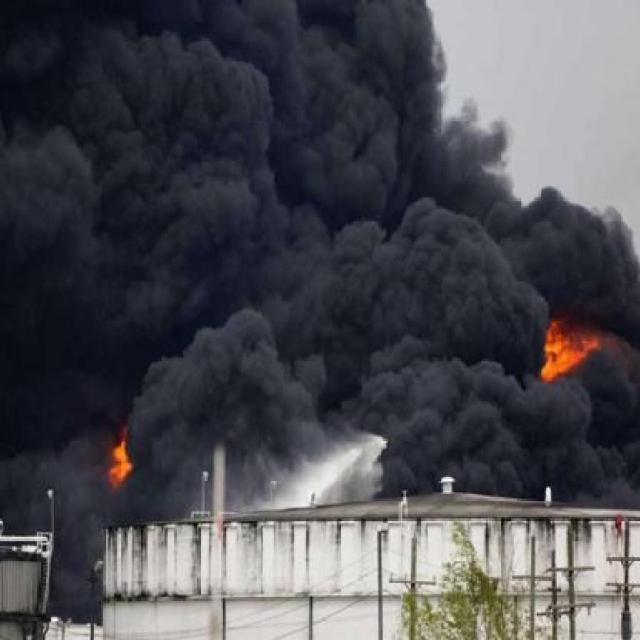Fire: (543, 306, 637, 384), (96, 422, 142, 491)
Smoke: (1, 10, 530, 424)
